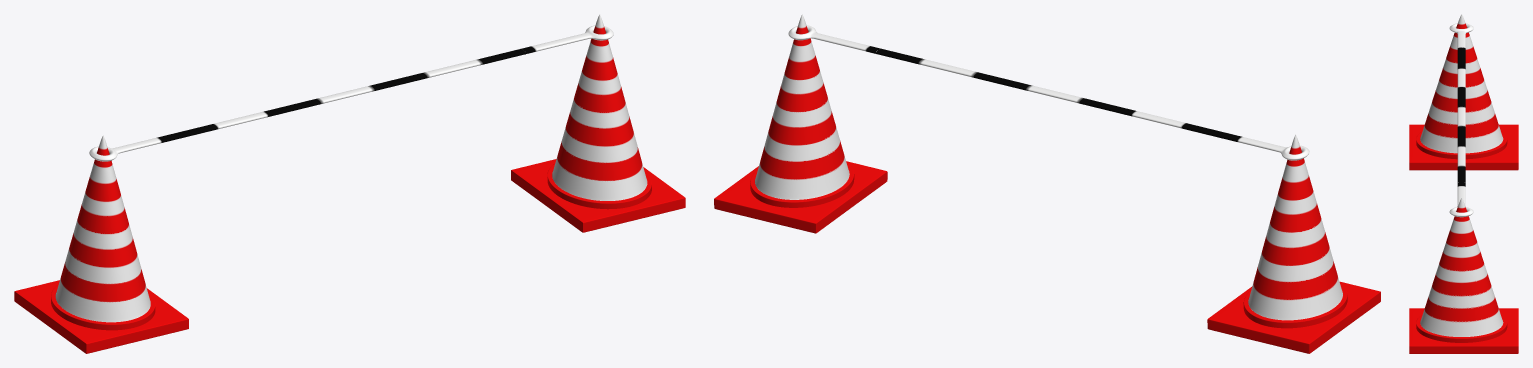
File: kon_tx_RE.fbx
3 views of the same model, side by side, from view 1: azimuth 30°, elevation 25°; view 2: azimuth 150°, elevation 25°; view 3: azimuth 270°, elevation 25° (orthographic). The views are drawn at different scales.
Parts seen in each view (by area): view 1: pCube1, pTorus3; view 2: pCube1, pTorus3; view 3: pCube1, pTorus3.
Boxes of the visible parts, box(x1,y1,x2,y2) form: pCube1: box(14, 14, 685, 353); pTorus3: box(89, 25, 613, 161); pCube1: box(714, 14, 1380, 353); pTorus3: box(788, 25, 1309, 160); pCube1: box(1409, 14, 1518, 353); pTorus3: box(1449, 23, 1473, 217).
Size of the model in its own units: 9.78 by 2.83 by 2.04.
Materials: 1 (1 with a texture image).
